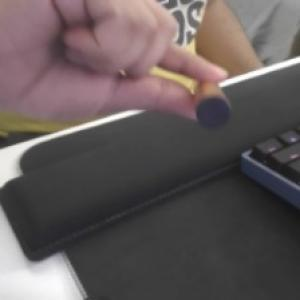Golden-E-Ciggirate: (191, 74, 234, 133)
